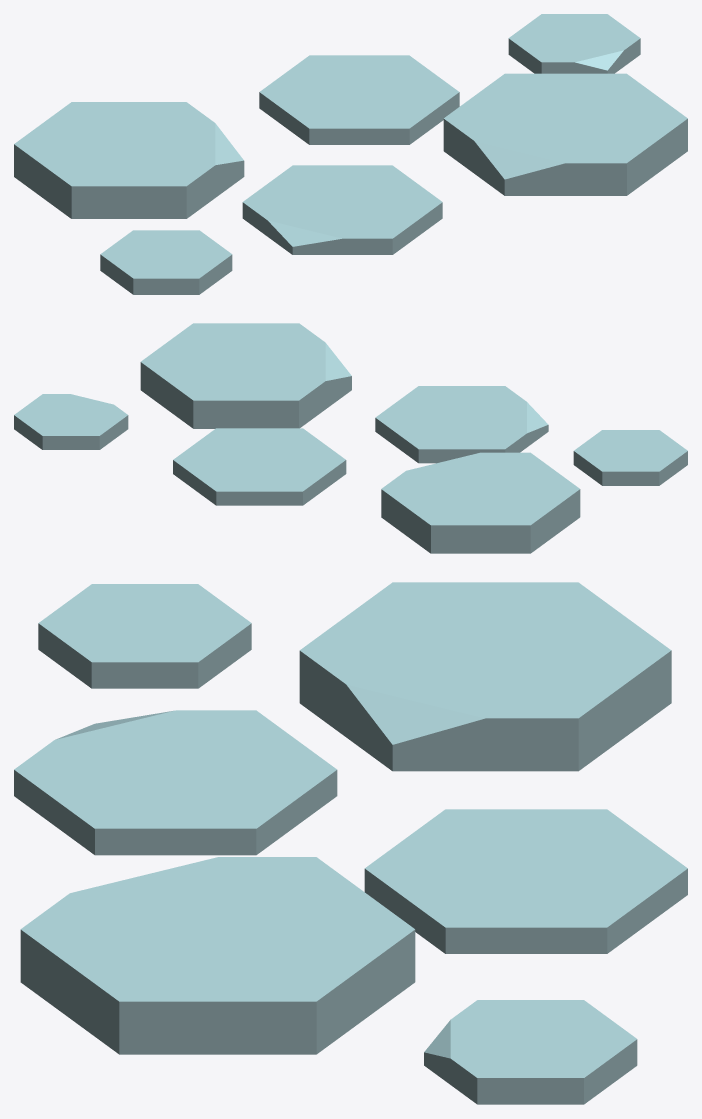
Rendered from path_stone.dae.
3 renders of one model, top to bottom at view 1: azimuth 30°, elevation 25°; view 2: azimuth 150°, elevation 25°; view 3: azimuth 270°, elevation 25°, orthographic. The views are drawn at different scales.
Visible parts, largest first — view 1: path_stone; view 2: path_stone; view 3: path_stone.
Boxes of the visible parts, x1=… form: path_stone: x1=14, y1=14, x2=687, y2=294; path_stone: x1=14, y1=323, x2=687, y2=553; path_stone: x1=14, y1=582, x2=687, y2=1104.
Bounding box in the file's own units: 1 × 0.05 × 0.5766.
